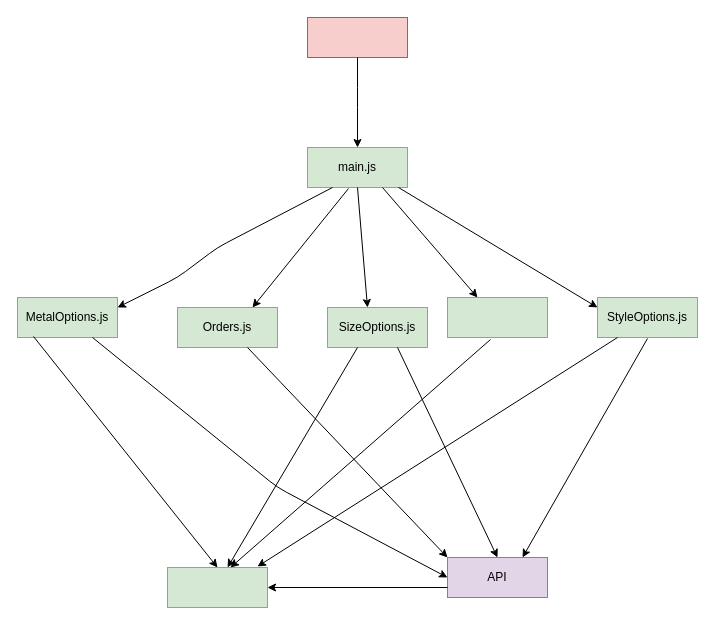
Image size: 715x625. Some labels were removed from this diagram. The box of each missing label's shape, as (x1, y1, x2, y2) in pixels:
index.html: (306, 16, 408, 58)
PlaceOrder.js: (446, 296, 548, 338)
TransientState.js: (166, 566, 268, 608)
